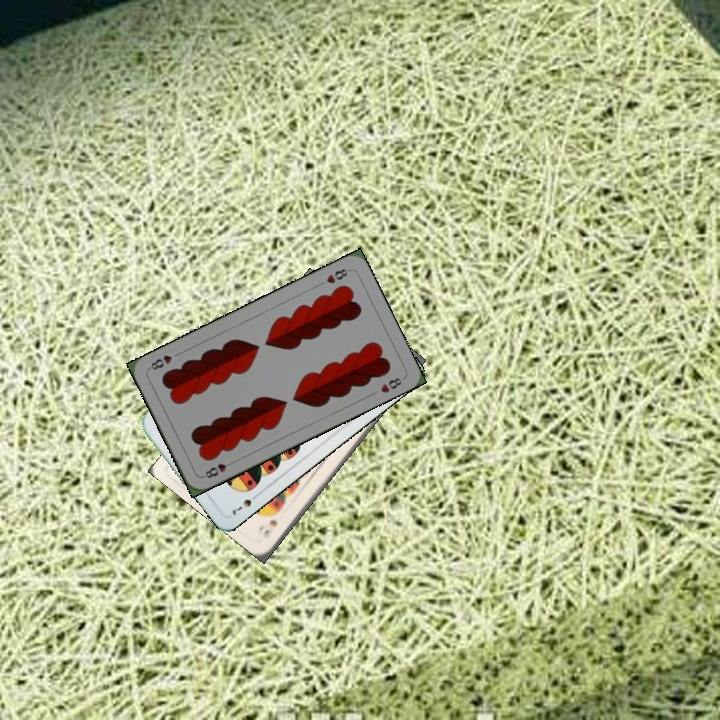H8: (199, 457, 237, 481), (322, 265, 353, 286)
S10: (259, 515, 280, 542)
S7: (227, 489, 262, 517)
